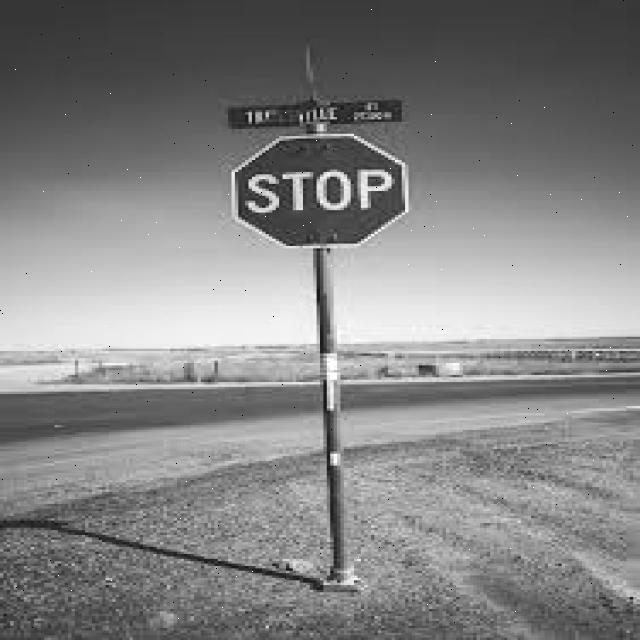stop sign: (233, 132, 410, 247)
